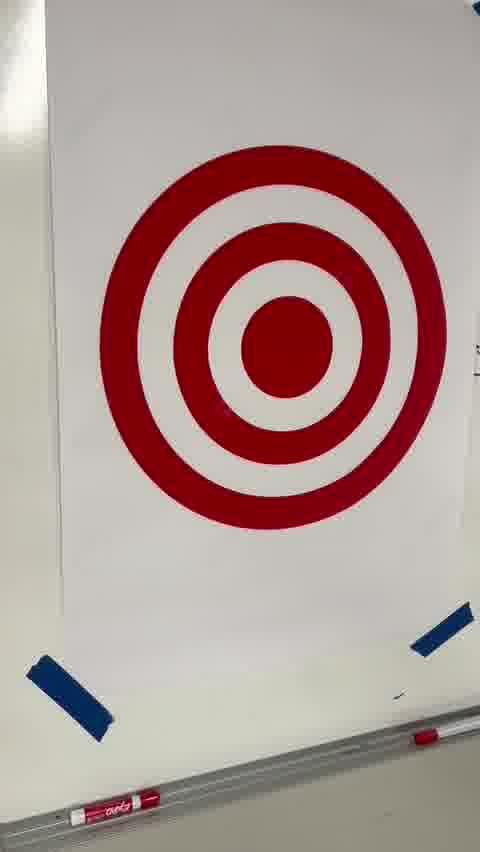target_red: (100, 146, 446, 529)
